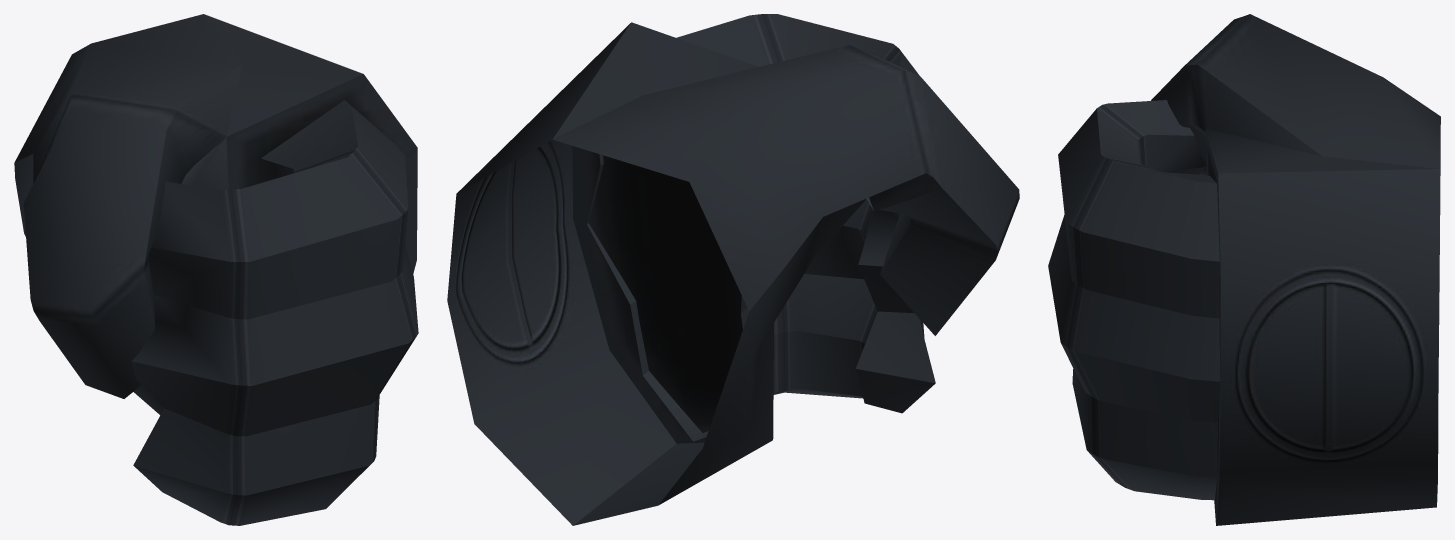
File: Assist_jixiebi03_L.FBX
3 views of the same model, side by side, from view 1: azimuth 30°, elevation 25°; view 2: azimuth 150°, elevation 25°; view 3: azimuth 270°, elevation 25° (orthographic). The views are drawn at different scales.
Parts seen in each view (by area): view 1: Weapon_jixiebi03; view 2: Weapon_jixiebi03; view 3: Weapon_jixiebi03.
Part boxes in pixels (left/top/right/bottom): Weapon_jixiebi03: left=14, top=14, right=418, bottom=525; Weapon_jixiebi03: left=447, top=14, right=1019, bottom=525; Weapon_jixiebi03: left=1048, top=14, right=1440, bottom=525.
Bounding box in the file's own units: 1.13 × 1.16 × 1.02.
Materials: 1 (1 with a texture image).
